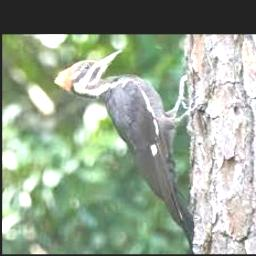Woodpecker: (53, 50, 196, 252)
